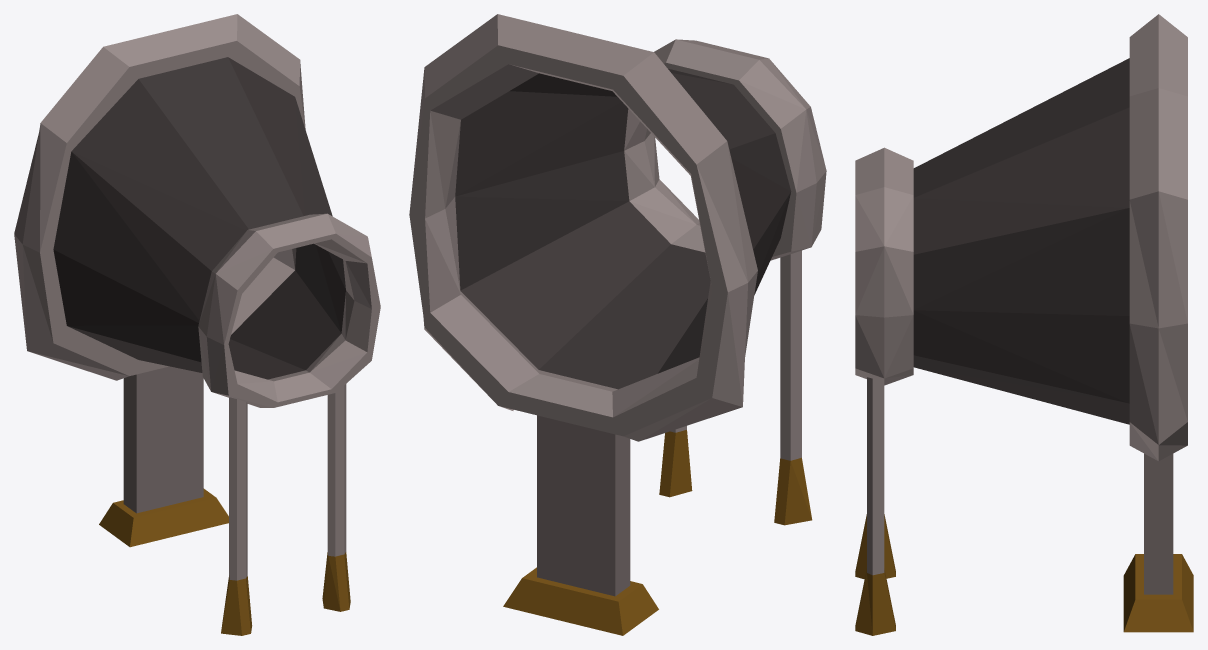
File: obj_gnome_goal_0.obj
3 views of the same model, side by side, from view 1: azimuth 30°, elevation 25°; view 2: azimuth 150°, elevation 25°; view 3: azimuth 270°, elevation 25° (orthographic). The views are drawn at different scales.
Bounding box in the file's own units: 1 × 1.64 × 0.9062.
